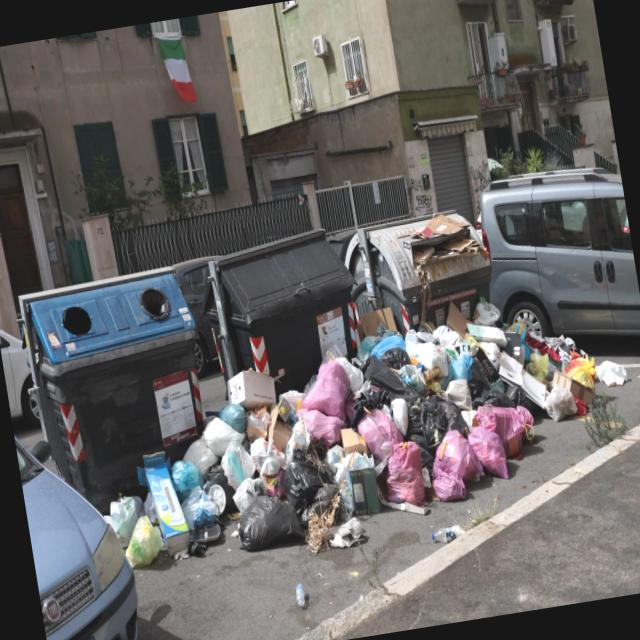garbage: (89, 280, 621, 563)
